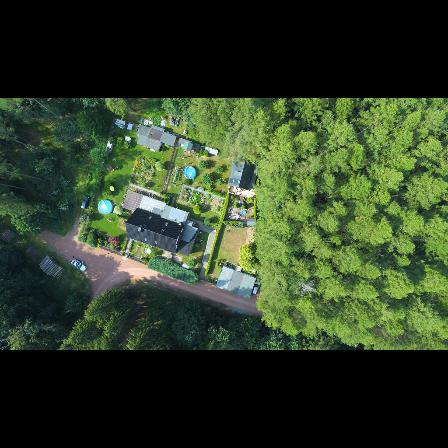Dead: (294, 276, 322, 300)
